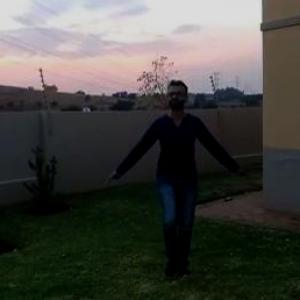land: (122, 93, 225, 238)
